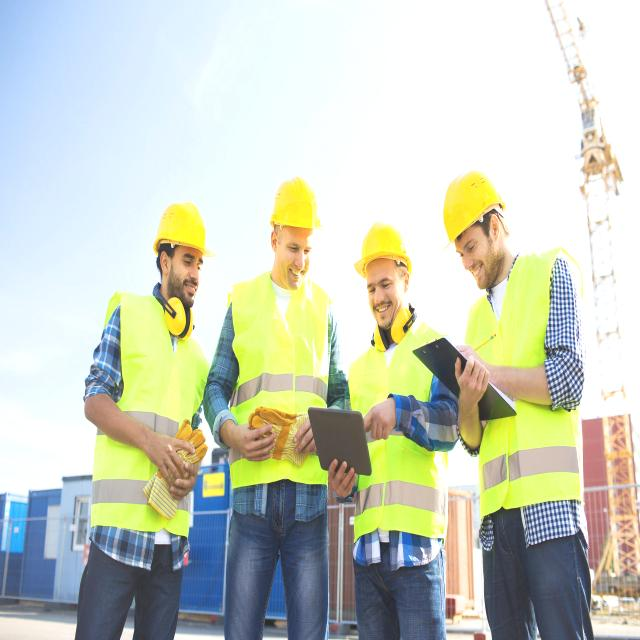face_nomask: (355, 256, 405, 334), (451, 212, 498, 293), (272, 230, 312, 290), (166, 250, 202, 311)
hand_noglove: (360, 391, 401, 448), (150, 435, 191, 492), (454, 352, 492, 404), (326, 460, 358, 506)
head_helmet: (440, 168, 506, 255), (152, 200, 216, 258), (353, 220, 412, 279), (270, 175, 324, 230)
person: (80, 178, 228, 640), (207, 180, 343, 640), (76, 200, 210, 640), (345, 226, 452, 640)
vest: (472, 244, 584, 524), (86, 292, 200, 542), (227, 266, 331, 492), (351, 316, 448, 544)
